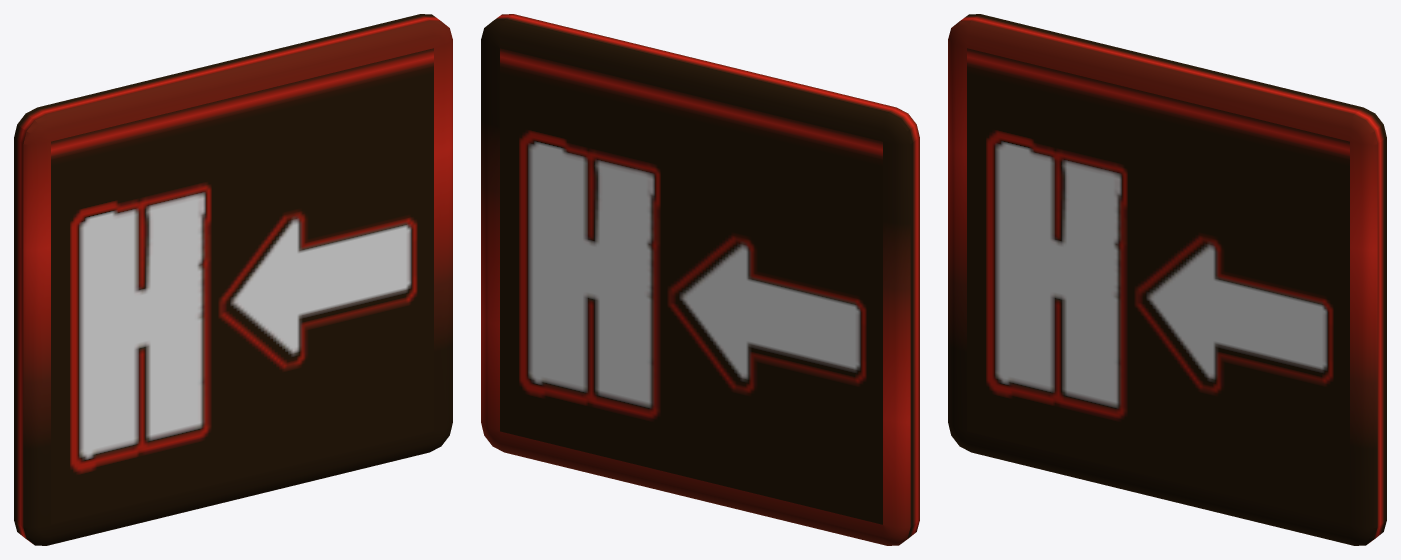
File: LIST.ICO.obj
3 views of the same model, side by side, from view 1: azimuth 30°, elevation 25°; view 2: azimuth 150°, elevation 25°; view 3: azimuth 330°, elevation 25° (orthographic).
Size of the model in its own units: 5 by 4.8 by 0.3613.
